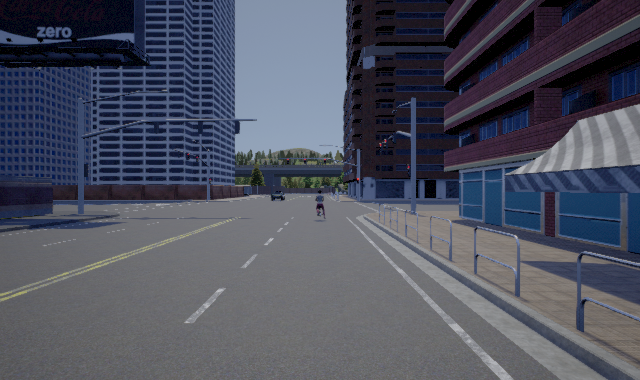bike: (314, 191, 326, 219)
traffic_light: (406, 164, 411, 177), (391, 133, 396, 144), (384, 139, 388, 149), (379, 143, 383, 152), (357, 178, 359, 184), (324, 159, 326, 164), (304, 159, 306, 164), (287, 159, 289, 164)
vehicle: (270, 190, 285, 203)
